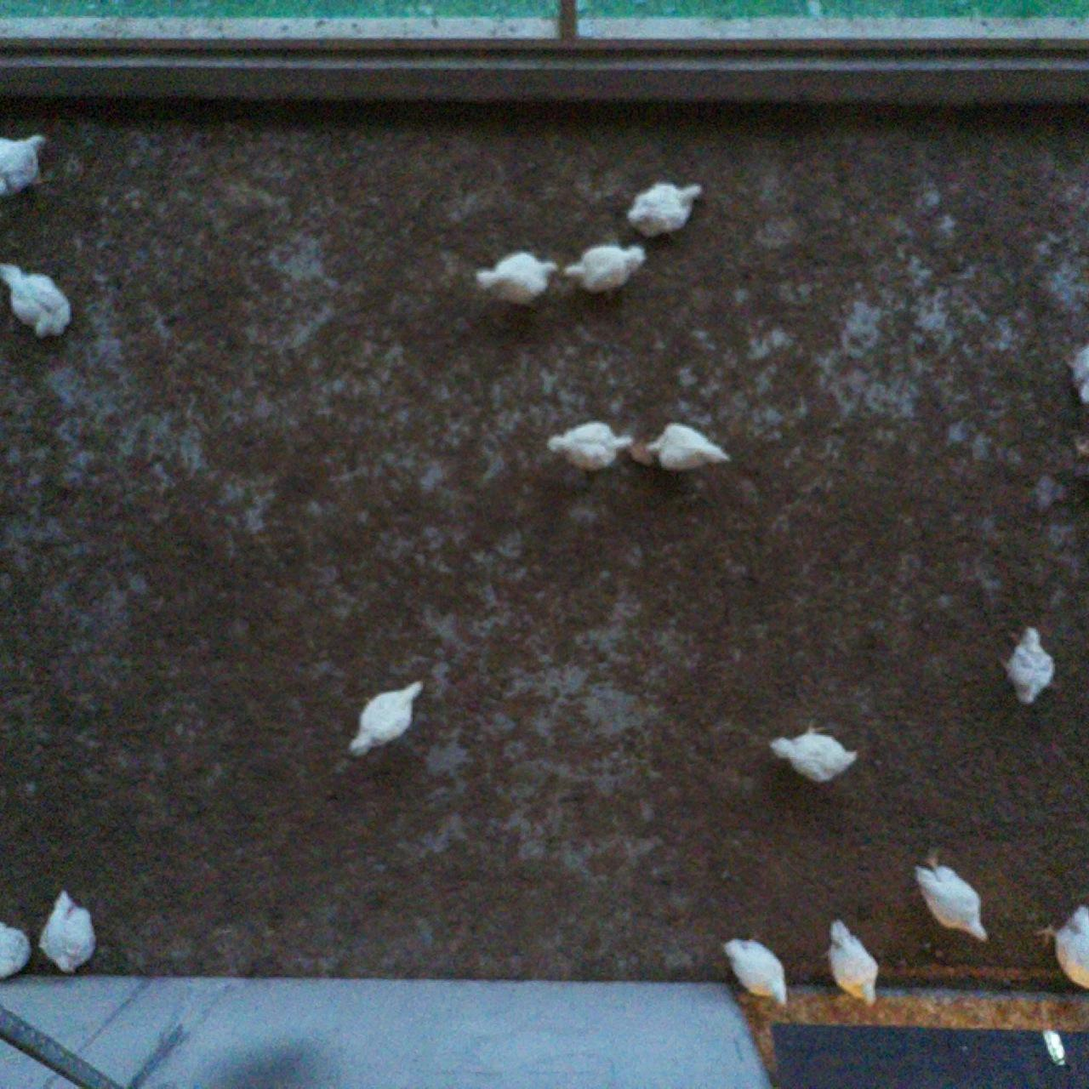chicken: (909, 852, 994, 948), (345, 673, 432, 762), (767, 713, 858, 788), (814, 916, 883, 1011), (0, 261, 76, 346), (35, 882, 101, 977), (469, 249, 563, 313), (622, 174, 705, 246), (721, 929, 793, 1009), (995, 622, 1059, 705), (1034, 900, 1089, 992), (560, 241, 649, 296), (544, 419, 637, 470), (644, 420, 731, 470), (0, 128, 48, 204), (0, 919, 33, 983)
